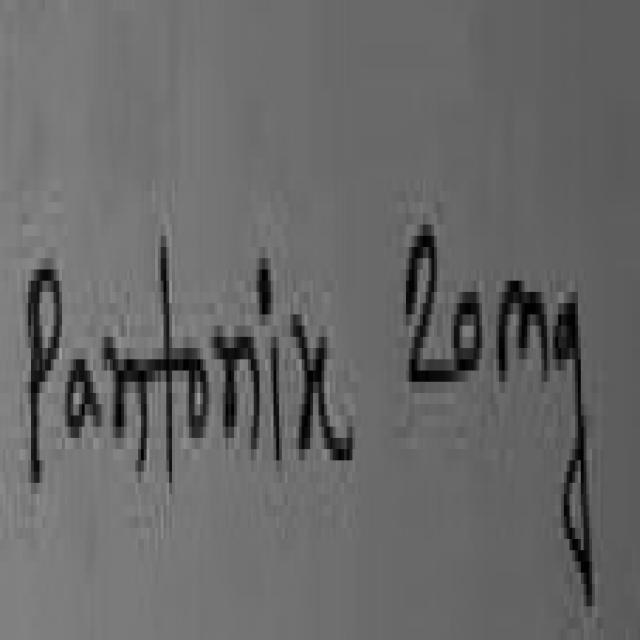0: (457, 292, 482, 371)
2: (409, 225, 457, 382)
P: (28, 269, 62, 477)
a: (68, 359, 101, 438)
g: (555, 303, 595, 606)
i: (271, 337, 282, 455), (259, 258, 273, 314)
m: (499, 281, 550, 382)
n: (104, 337, 147, 466), (214, 337, 259, 444)
o: (183, 348, 209, 438)
t: (148, 236, 184, 505)
x: (293, 314, 355, 460)
